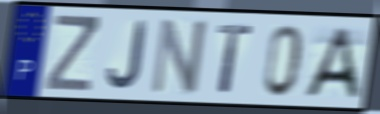0: (262, 23, 306, 98)
A: (301, 25, 361, 101)
J: (105, 19, 148, 91)
N: (148, 15, 210, 97)
T: (215, 21, 254, 96)
Z: (43, 12, 101, 94)
